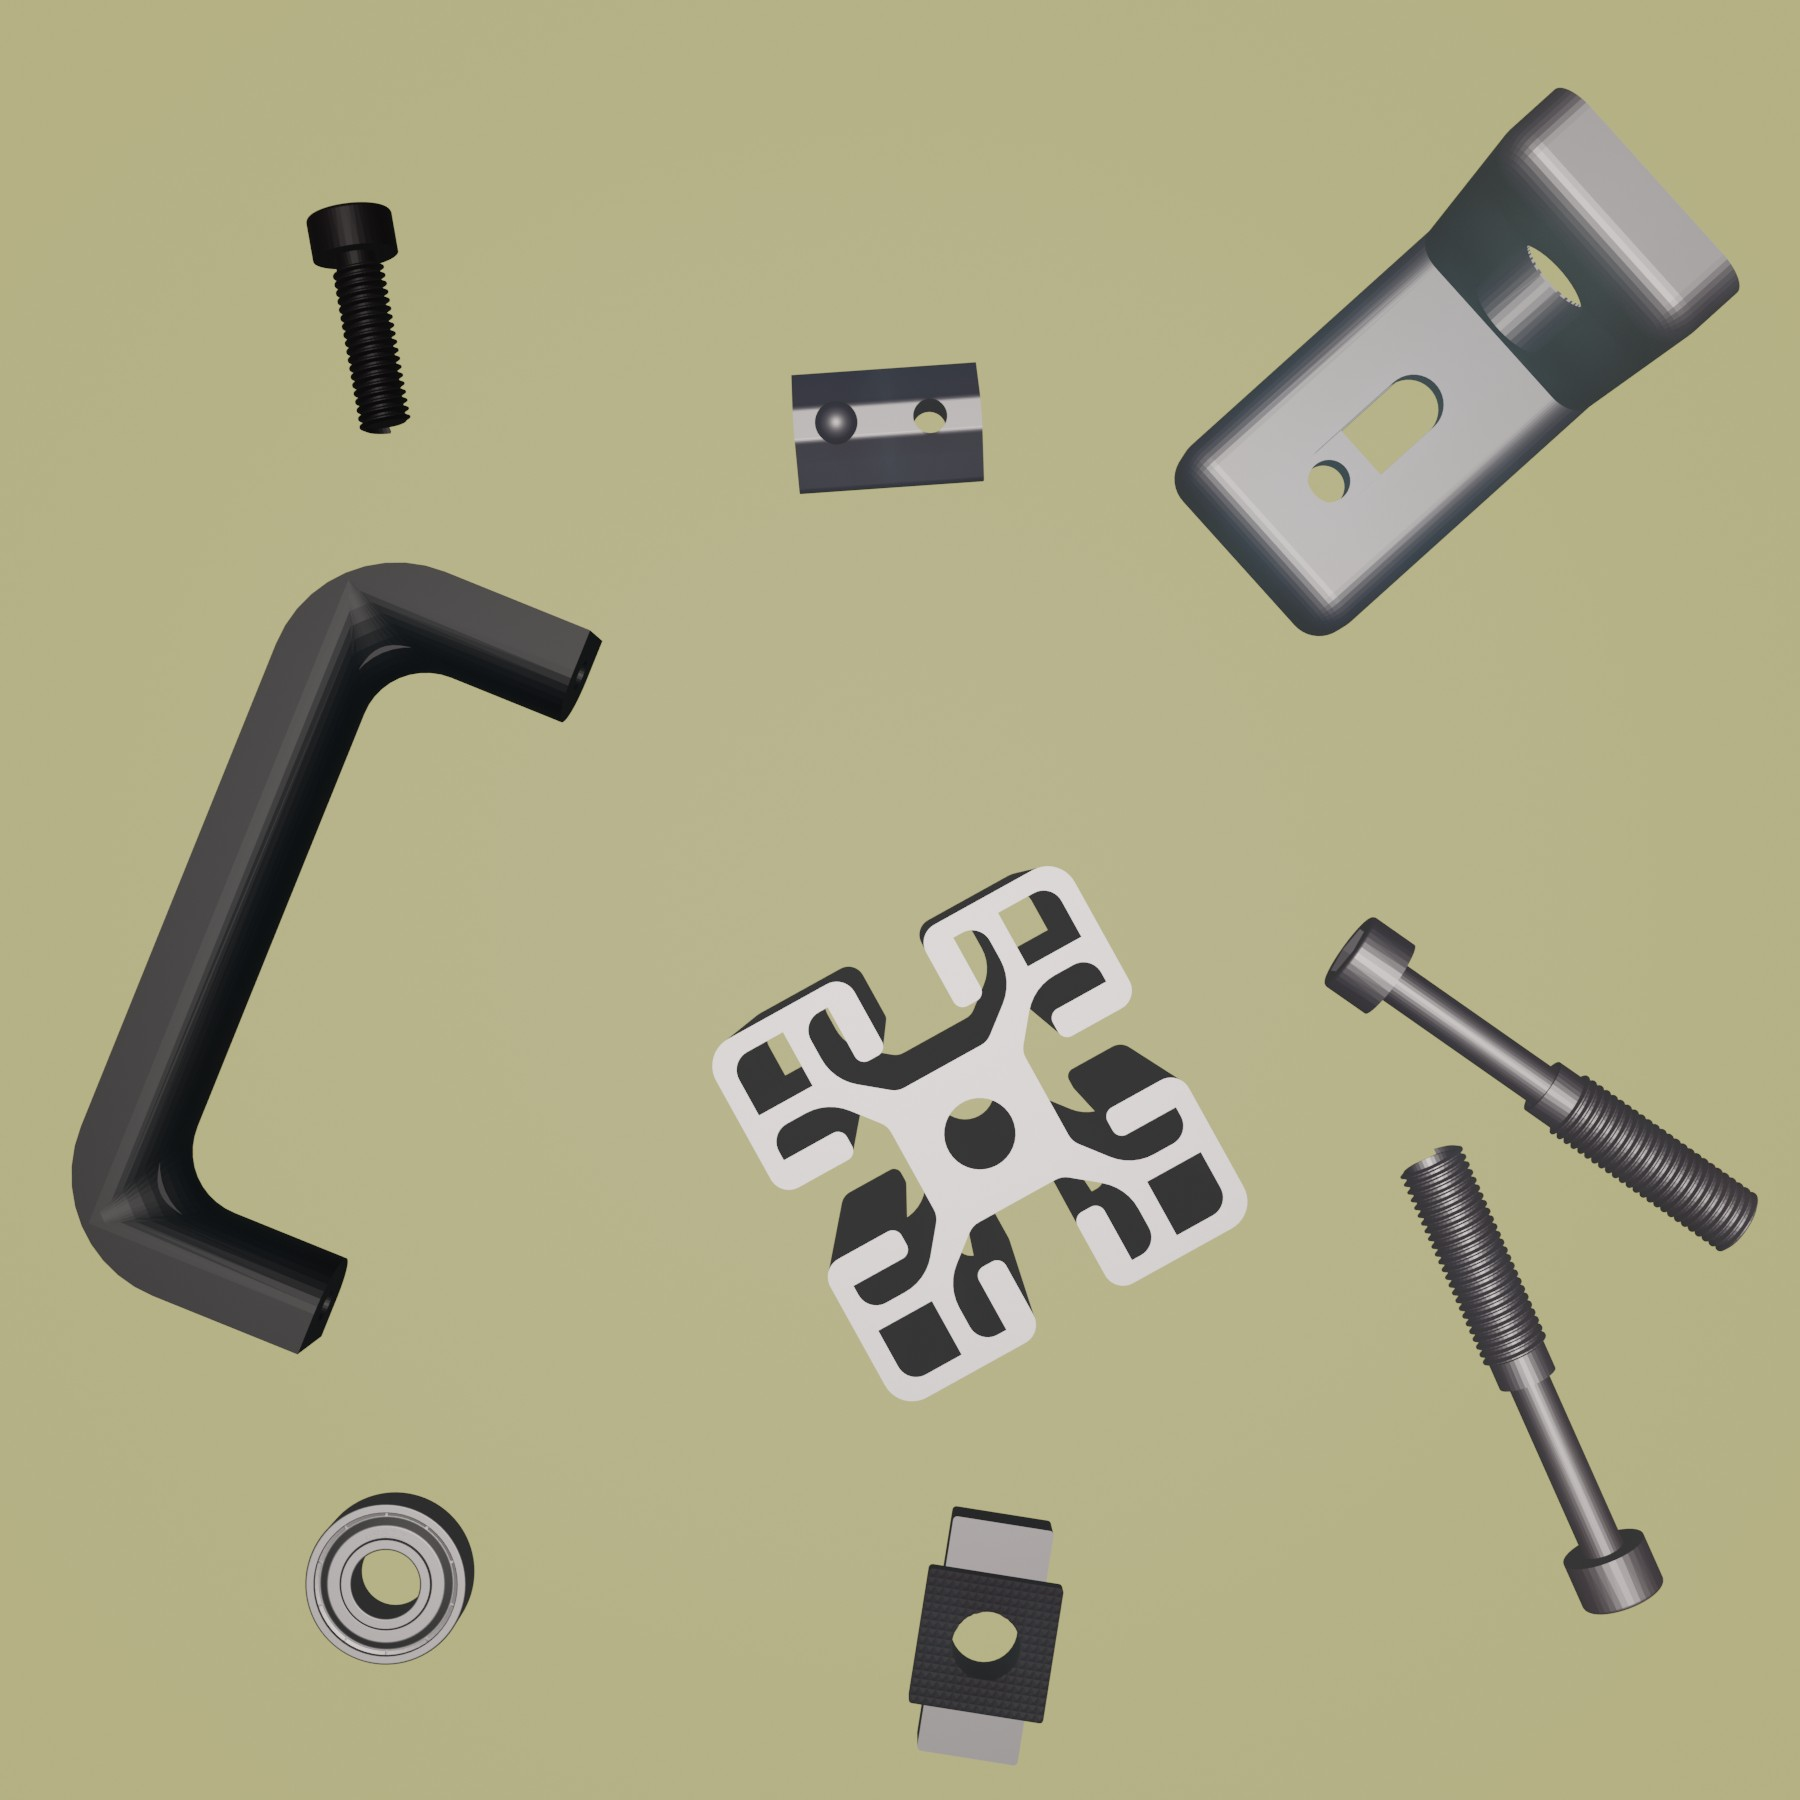Aluminium Extension: (709, 862, 1249, 1408)
Ball Bearing: (302, 1492, 478, 1668)
Multiwinkel: (1170, 86, 1742, 638)
Pull Handle: (69, 559, 607, 1358)
Shoulder Socket Head Cap Screw: (1319, 912, 1760, 1253), (1399, 1141, 1665, 1619)
Socket Head Cap Screw: (303, 198, 414, 438)
T Nut Square: (903, 1500, 1066, 1769)
T Spring Nut: (786, 359, 987, 498)
